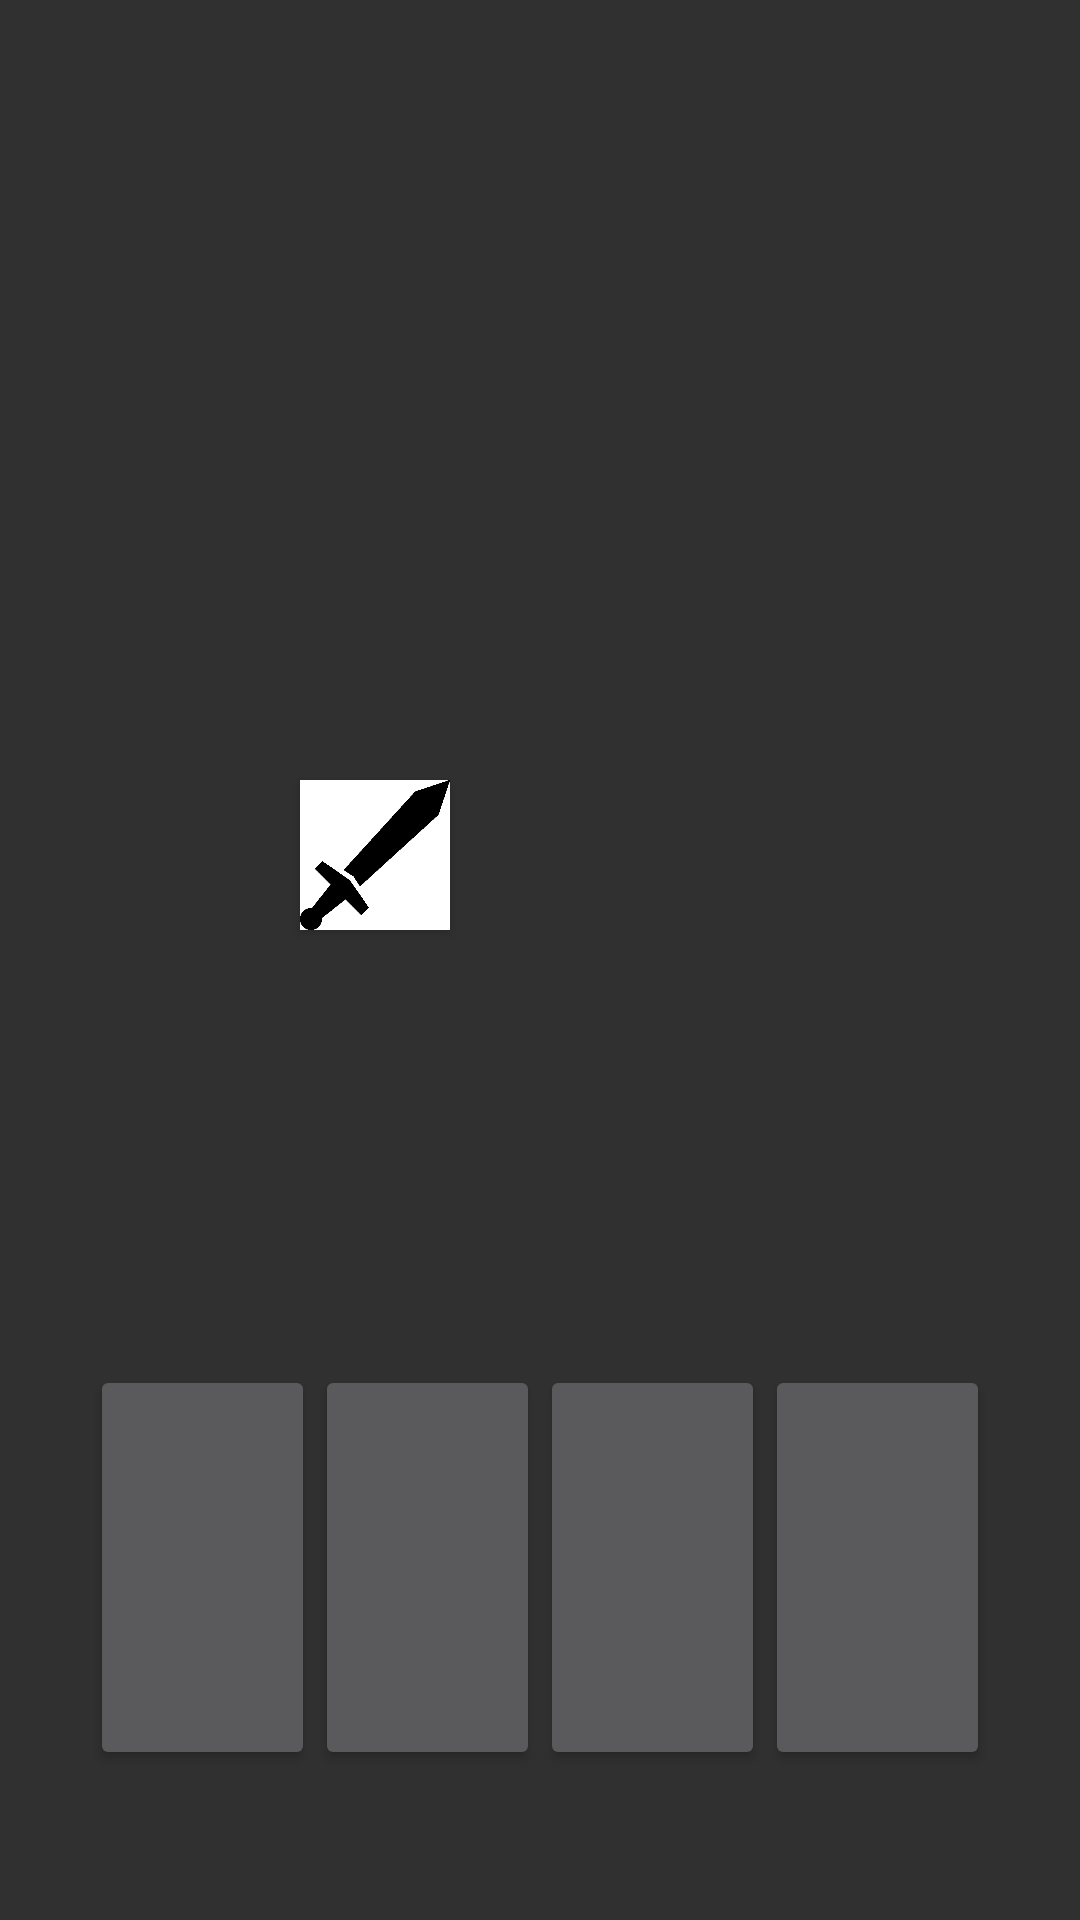

Icons on this 1080px×1920px Android screen, each with its box as (x1, y1, x2, y2):
weapon inventory fight: (300, 780, 450, 930)
